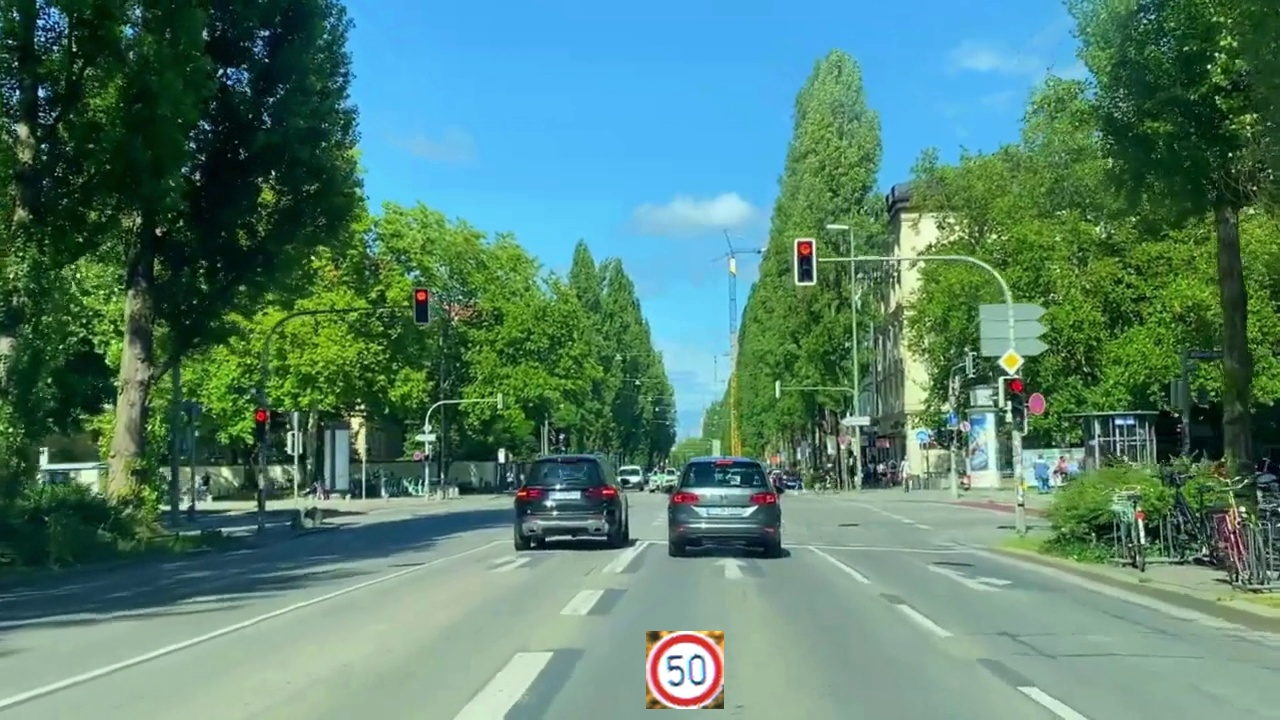Speed 50: (646, 631, 724, 709)
